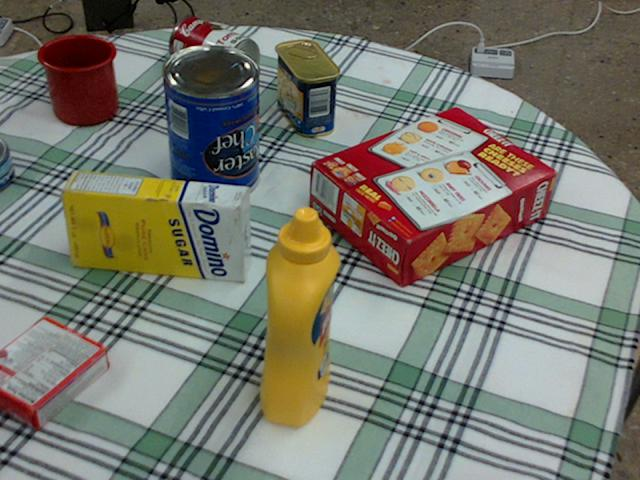cracker_box: (311, 107, 555, 287)
gelatin_box: (0, 316, 108, 428)
master_chef_can: (160, 45, 257, 202)
mug: (39, 34, 118, 123)
mustard_bottle: (259, 207, 340, 424)
potted_meat_can: (273, 39, 338, 136)
sugar_box: (60, 170, 249, 281)
tomato_soup_can: (169, 15, 258, 85)
tuna_fish_can: (0, 137, 13, 188)
